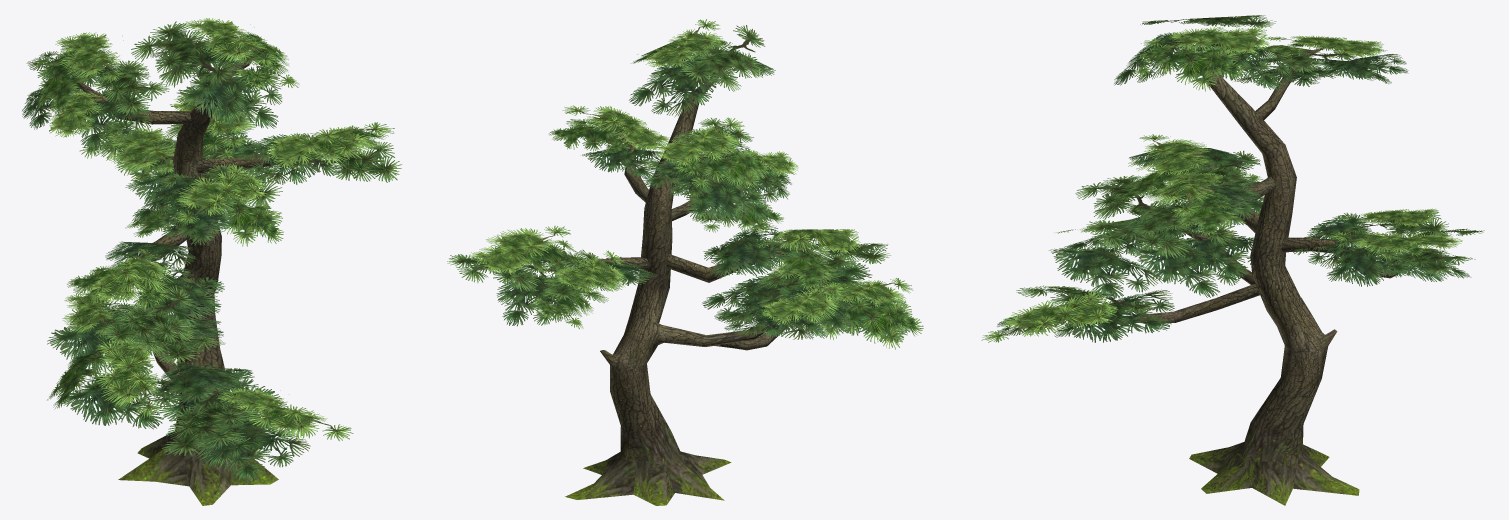
Rendered from wlf_shu02_w.FBX.
3 renders of one model, left to right at view 1: azimuth 30°, elevation 25°; view 2: azimuth 150°, elevation 25°; view 3: azimuth 270°, elevation 25°, orthographic. The views are drawn at different scales.
Parts seen in each view (by area): view 1: wlf_shu02_w; view 2: wlf_shu02_w; view 3: wlf_shu02_w.
Part boxes in pixels (x1,y1,x2,y2): wlf_shu02_w: (22,18,401,505); wlf_shu02_w: (447,19,923,505); wlf_shu02_w: (981,15,1484,505).
Bounding box in the file's own units: 6585 × 7437 × 8107.
